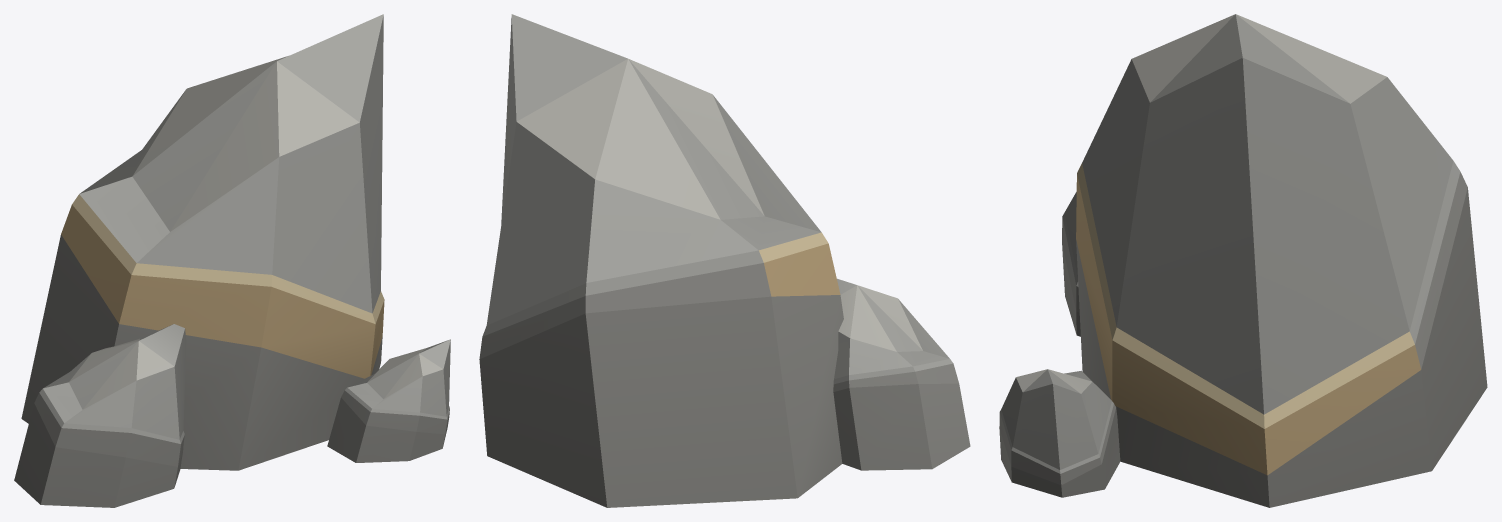
Rendered from terrain-ore-outcrop.glb.
3 renders of one model, left to right at view 1: azimuth 30°, elevation 25°; view 2: azimuth 150°, elevation 25°; view 3: azimuth 270°, elevation 25°, orthographic. The views are drawn at different scales.
Parts seen in each view (by area): view 1: terrain-ore-outcrop; view 2: terrain-ore-outcrop; view 3: terrain-ore-outcrop.
Boxes of the visible parts, x1,y1,x2,y2 form: terrain-ore-outcrop: [14, 14, 450, 507]; terrain-ore-outcrop: [479, 14, 970, 507]; terrain-ore-outcrop: [999, 14, 1487, 507].
Size of the model in its own units: 0.7572 by 0.6441 by 0.6396.
